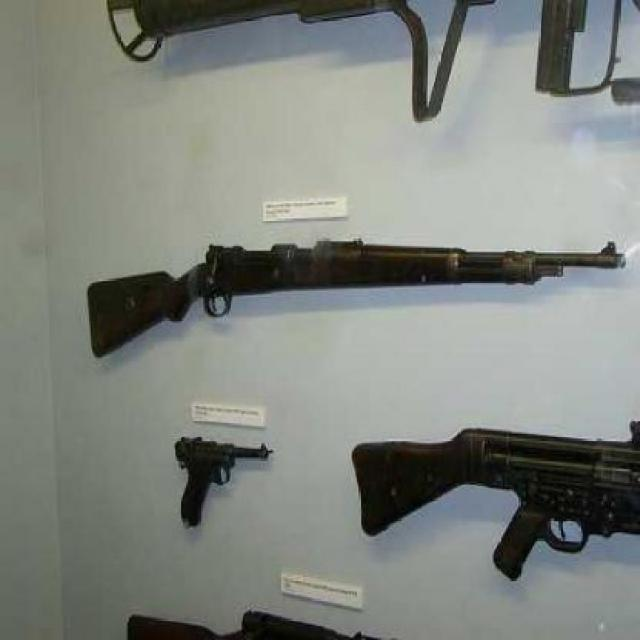weapon: (86, 236, 626, 342), (353, 428, 640, 574), (170, 436, 272, 534), (122, 610, 394, 640)
